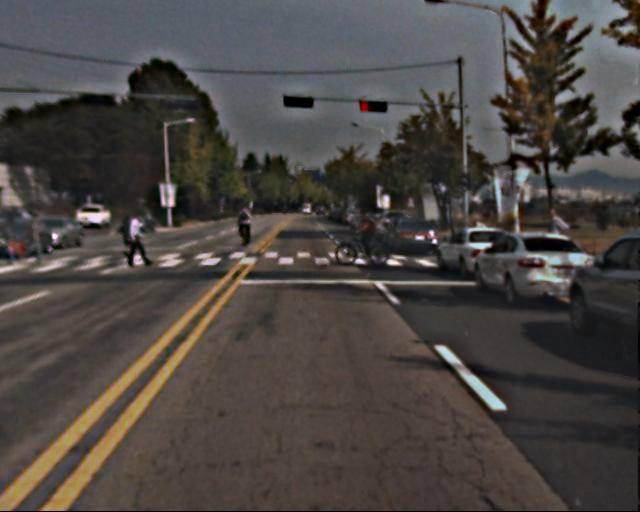person: (3, 214, 43, 265), (357, 204, 380, 259), (127, 211, 149, 265), (121, 214, 140, 260), (237, 204, 255, 248)
